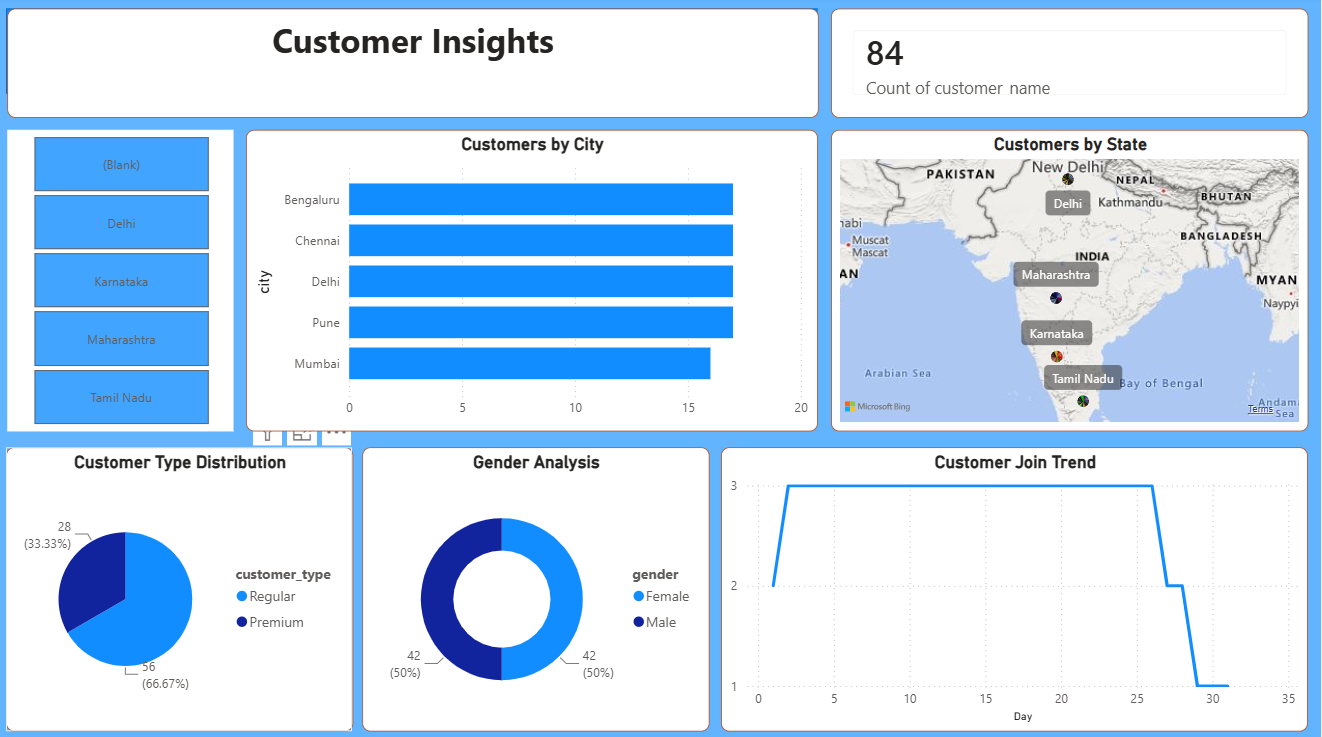

The page's visual inventory and layout, read from the dashboard file:
{"tool":"powerbi","page":{"name":"CUSTOMERS Table Visuals","canvas":[1280,720],"ordinal":1},"visuals":[{"type":"pieChart","title":"Customer Type Distribution","fields":{"Category":["customers.customer_type"],"Y":["CountNonNull(customers.customer_id)"]},"box":[9.6,435,334.8,274.4],"z":0},{"type":"clusteredBarChart","title":"Customers by City","fields":{"Category":["customers.city"],"Y":["CountNonNull(customers.customer_id)"]},"box":[241.5,129,551.6,290.9],"z":1000},{"type":"map","title":"Customers by State","fields":{"Category":["customers.state"],"Series":["customers.customer_id"]},"box":[805.5,129,461.1,290.9],"z":2000},{"type":"lineChart","title":"Customer Join Trend","fields":{"Category":["customers.join_date.Variation.Date Hierarchy.Year","customers.join_date.Variation.Date Hierarchy.Quarter","customers.join_date.Variation.Date Hierarchy.Month","customers.join_date.Variation.Date Hierarchy.Day"],"Y":["CountNonNull(customers.customer_id)"]},"box":[699.8,435,566.7,274.4],"z":3000},{"type":"donutChart","title":"Gender Analysis","fields":{"Category":["customers.gender"],"Y":["CountNonNull(customers.customer_id)"]},"box":[354,435,334.8,274.4],"z":4000},{"type":"cardVisual","fields":{"Data":["CountNonNull(customers.customer_id)"]},"box":[805.5,12.3,461.1,105.7],"z":5000},{"type":"shape","box":[9.6,12.3,783.5,82.3],"z":6000},{"type":"textbox","box":[11,12.3,783.5,105.7],"z":7000},{"type":"slicer","fields":{"Values":["customers.state"]},"box":[11,129,218.2,290.9],"z":8000}]}

Visuals, with their boxes in screenshot pixels (x1, y1, x2, y2), scaled from the page's 1280x720 canvas onto the 1322x737 screenshot:
"Customer Type Distribution" pieChart: [x1=10, y1=445, x2=356, y2=726]
"Customers by City" clusteredBarChart: [x1=249, y1=132, x2=819, y2=430]
"Customers by State" map: [x1=832, y1=132, x2=1308, y2=430]
"Customer Join Trend" lineChart: [x1=723, y1=445, x2=1308, y2=726]
"Gender Analysis" donutChart: [x1=366, y1=445, x2=711, y2=726]
cardVisual - CountNonNull(customers.customer_id): [x1=832, y1=13, x2=1308, y2=121]
shape: [x1=10, y1=13, x2=819, y2=97]
textbox: [x1=11, y1=13, x2=821, y2=121]
slicer - customers.state: [x1=11, y1=132, x2=237, y2=430]
